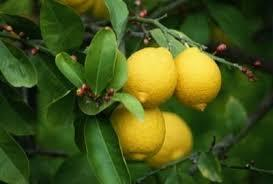lemon: (123, 46, 178, 107), (109, 102, 165, 160), (174, 46, 222, 112), (144, 111, 192, 168)
